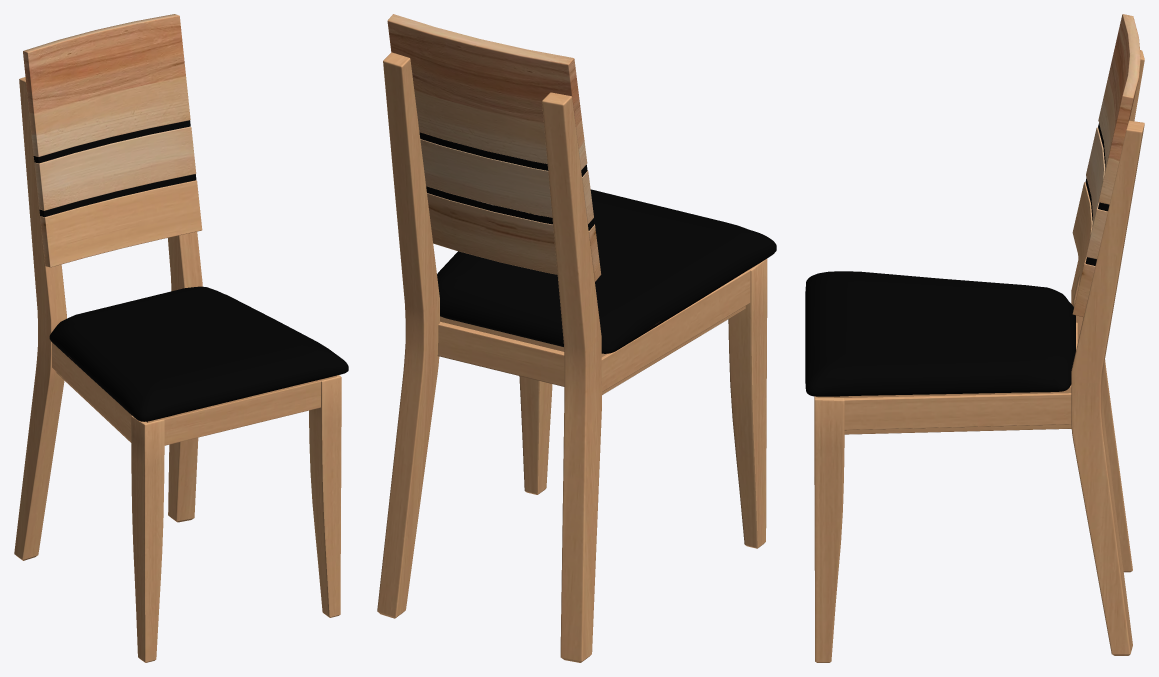
Rendered from abo-B07K7LVRMZ.glb.
The picture shows the model from 3 angles, left to right: view 1: azimuth 30°, elevation 25°; view 2: azimuth 150°, elevation 25°; view 3: azimuth 270°, elevation 25°; orthographic projection. The views are drawn at different scales.
Bounding box in the file's own units: 0.41 × 0.94 × 0.52.
1 material, 1 textured.
